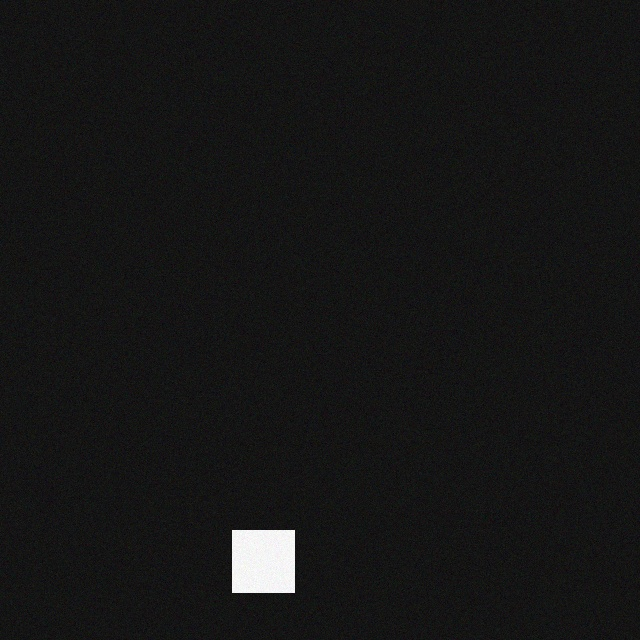square: (237, 532, 299, 594)
